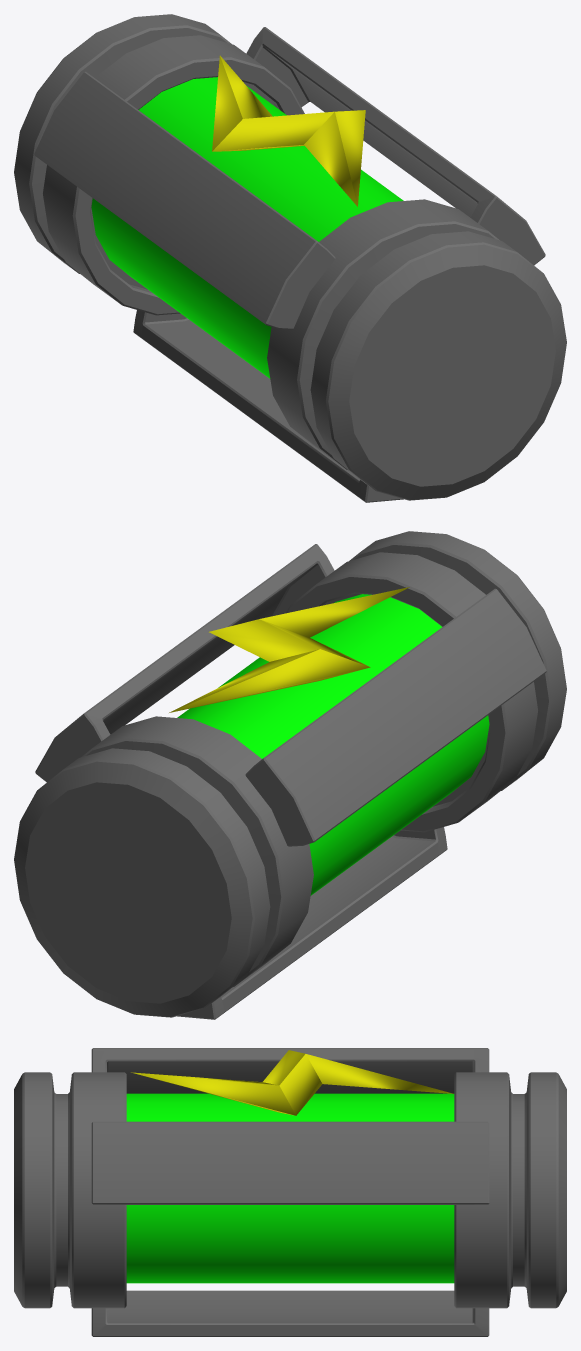
Rendered from EnergyCell.glb.
3 renders of one model, top to bottom at view 1: azimuth 30°, elevation 25°; view 2: azimuth 150°, elevation 25°; view 3: azimuth 270°, elevation 25°, orthographic. The views are drawn at different scales.
Visible parts, largest first — view 1: cell, energybar; view 2: cell, energybar; view 3: cell, energybar.
Boxes of the visible parts, x1,y1,x2,y2 form: cell: (14,14,566,502); energybar: (91,77,403,378); cell: (14,531,566,1019); energybar: (177,594,489,895); cell: (14,1048,566,1336); energybar: (126,1093,454,1283).
Bounding box in the file's own units: 0.9101 × 0.9275 × 1.83.
